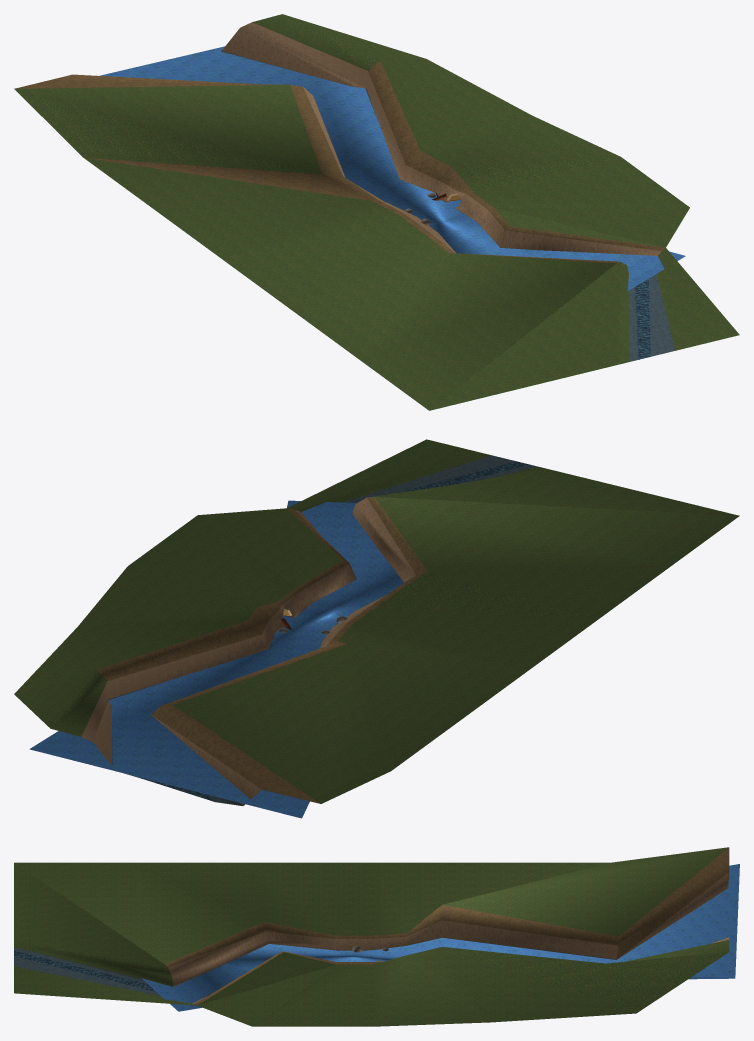
Rendered from ENVO_uwriver.obj.
3 renders of one model, top to bottom at view 1: azimuth 30°, elevation 25°; view 2: azimuth 150°, elevation 25°; view 3: azimuth 270°, elevation 25°, orthographic. The views are drawn at different scales.
Parts seen in each view (by area): view 1: uwriver; view 2: uwriver; view 3: uwriver.
Boxes of the visible parts, x1=… form: uwriver: x1=14, y1=14, x2=739, y2=410; uwriver: x1=14, y1=439, x2=739, y2=818; uwriver: x1=14, y1=847, x2=739, y2=1026.
Size of what is drawn, in the model's own units: 2920 by 330 by 5335.
Materials: 10 (10 with a texture image).
